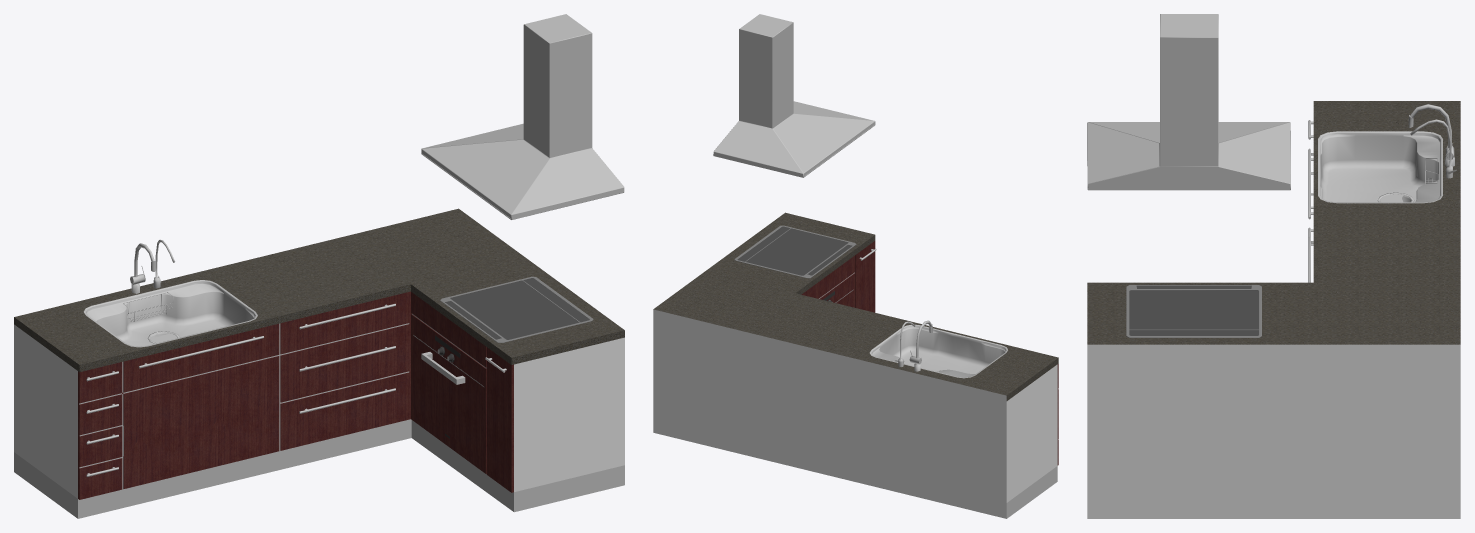
The model's file is kitchen.gltf.
3 renders of one model, left to right at view 1: azimuth 30°, elevation 25°; view 2: azimuth 150°, elevation 25°; view 3: azimuth 270°, elevation 25°, orthographic. The views are drawn at different scales.
Parts seen in each view (by area): view 1: 15_primitive, 23_primitive, 16_primitive, 20_primitive, 2_primitive, 35_primitive, 9_primitive, 25_primitive, 7_primitive, 12_primitive, 14_primitive, 19_primitive (+1 smaller); view 2: 17_primitive, 23_primitive, 20_primitive, 6_primitive, 16_primitive, 35_primitive, 25_primitive, 15_primitive, 1_primitive, 2_primitive, 19_primitive, 29_primitive; view 3: 17_primitive, 23_primitive, 20_primitive, 35_primitive, 6_primitive, 25_primitive, 1_primitive, 29_primitive, 19_primitive, 26_primitive, 12_primitive, 30_primitive (+1 smaller).
Boxes of the visible parts, bbox=[...] form: 15_primitive: bbox=[78, 291, 513, 499]; 23_primitive: bbox=[14, 208, 624, 372]; 16_primitive: bbox=[14, 324, 624, 498]; 20_primitive: bbox=[421, 14, 624, 219]; 2_primitive: bbox=[14, 419, 624, 518]; 35_primitive: bbox=[84, 280, 257, 347]; 9_primitive: bbox=[413, 335, 484, 459]; 25_primitive: bbox=[450, 280, 579, 339]; 7_primitive: bbox=[411, 314, 485, 473]; 12_primitive: bbox=[87, 303, 506, 476]; 14_primitive: bbox=[79, 313, 486, 488]; 19_primitive: bbox=[421, 24, 624, 219]; 17_primitive: bbox=[653, 315, 1006, 502]; 23_primitive: bbox=[653, 212, 1058, 400]; 20_primitive: bbox=[713, 14, 875, 177]; 6_primitive: bbox=[653, 417, 1006, 518]; 16_primitive: bbox=[1006, 364, 1057, 502]; 35_primitive: bbox=[869, 324, 1007, 378]; 25_primitive: bbox=[746, 228, 847, 275]; 15_primitive: bbox=[801, 241, 1058, 465]; 1_primitive: bbox=[653, 309, 1006, 401]; 2_primitive: bbox=[1006, 466, 1057, 518]; 19_primitive: bbox=[713, 22, 874, 177]; 29_primitive: bbox=[734, 225, 856, 277]; 17_primitive: bbox=[1087, 353, 1460, 496]; 23_primitive: bbox=[1087, 101, 1460, 344]; 20_primitive: bbox=[1087, 14, 1290, 190]; 35_primitive: bbox=[1318, 131, 1442, 203]; 6_primitive: bbox=[1087, 496, 1460, 518]; 25_primitive: bbox=[1129, 290, 1258, 329]; 1_primitive: bbox=[1087, 344, 1460, 352]; 29_primitive: bbox=[1126, 285, 1261, 337]; 19_primitive: bbox=[1087, 14, 1290, 189]; 26_primitive: bbox=[1129, 330, 1258, 335]; 12_primitive: bbox=[1308, 120, 1313, 282]; 30_primitive: bbox=[1408, 104, 1454, 166].
Bounding box in the file's own units: 2.55 × 2.35 × 1.65.
37 materials, 4 textured.
